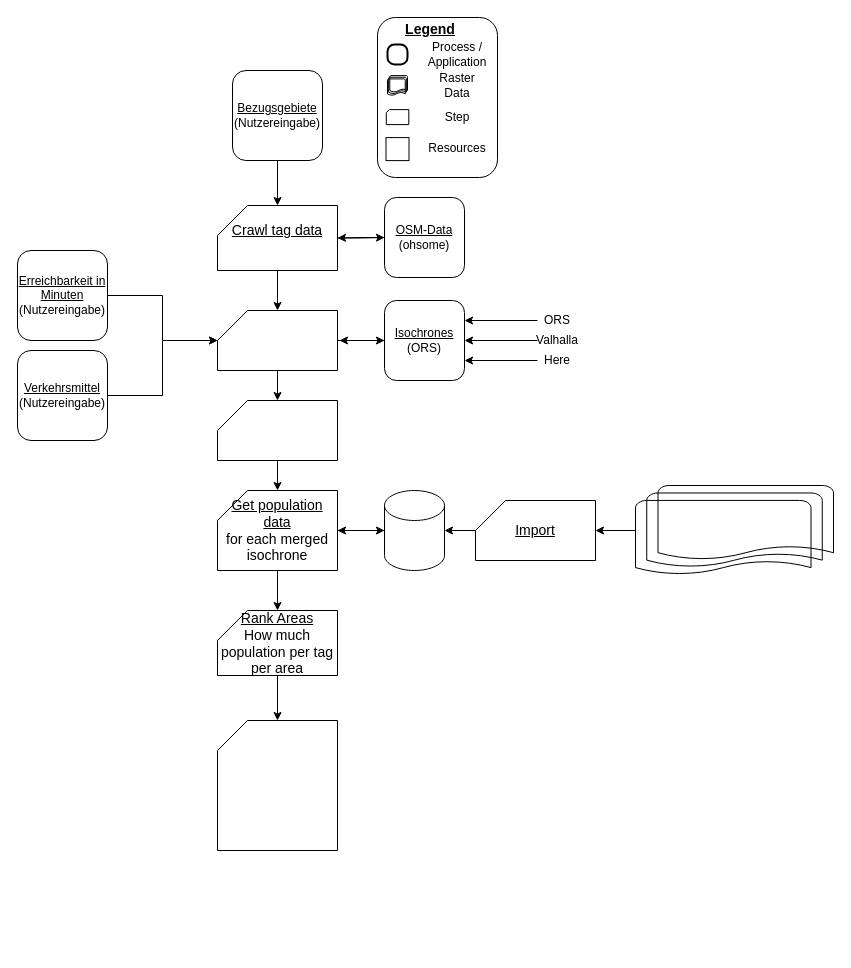
Some shapes in this 851 by 968 pixel diagram are drawn without their labels. The centre of each missing label's shape, as x and y in pixels:
"Calculate Isochrones one for each object" goes at (277,340).
"DB (Postgis)" goes at (414,530).
"Merge all isochrones of the same tag class" goes at (277,430).
"Plot Each tag Relative score Absolute score" goes at (277,785).
"Population Data Raster Data" goes at (734,530).
